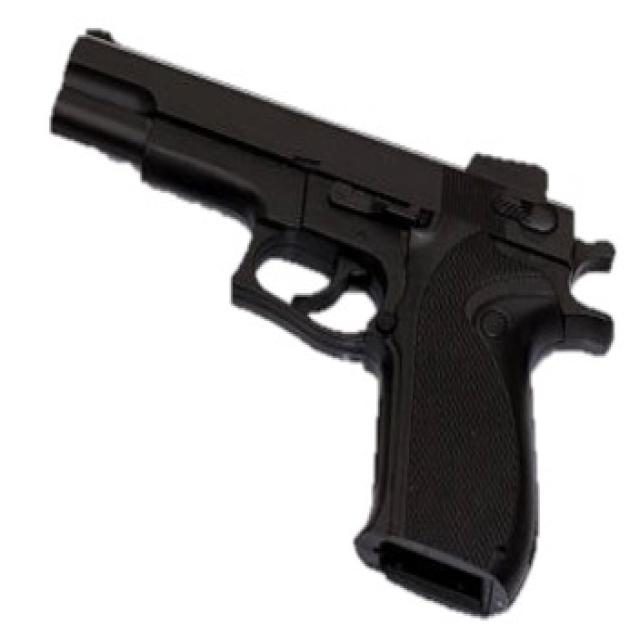pistol: (46, 17, 617, 632)
